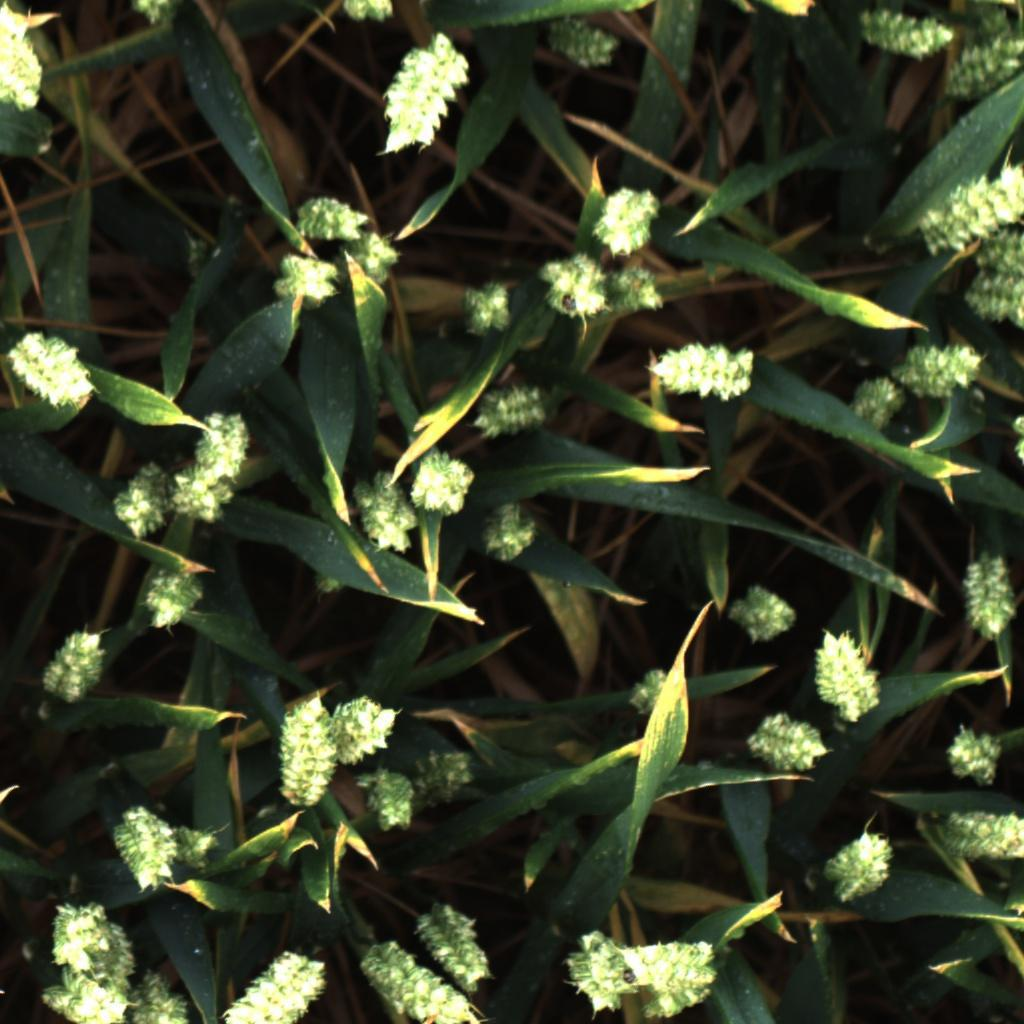0-0: (379, 28, 474, 159), (916, 164, 1024, 260), (360, 941, 482, 1024), (265, 694, 342, 813), (805, 624, 885, 730), (412, 898, 498, 996), (218, 954, 333, 1024), (5, 329, 98, 415), (648, 340, 762, 406), (57, 918, 140, 1002), (107, 802, 181, 895), (35, 621, 115, 706), (562, 926, 638, 1012), (617, 935, 722, 996), (939, 33, 1024, 108), (736, 710, 833, 775), (959, 548, 1023, 643), (350, 467, 416, 558), (326, 687, 401, 767), (405, 447, 484, 521), (0, 0, 47, 120), (108, 459, 174, 543), (886, 343, 983, 400), (830, 828, 899, 908), (46, 900, 118, 976), (134, 564, 211, 635), (465, 381, 546, 445), (932, 808, 1024, 864), (856, 10, 959, 59), (288, 188, 373, 247), (265, 243, 340, 306), (118, 963, 195, 1024), (590, 182, 654, 254), (547, 12, 621, 73), (944, 715, 1008, 785), (729, 584, 801, 646), (353, 764, 416, 834), (821, 828, 892, 890), (192, 408, 256, 476), (962, 264, 1024, 334), (835, 372, 912, 428), (168, 464, 235, 526), (340, 227, 408, 286), (479, 495, 537, 563), (39, 981, 130, 1024), (451, 282, 516, 342), (417, 744, 476, 807), (608, 259, 670, 315), (639, 982, 716, 1023), (623, 668, 673, 725), (543, 252, 609, 294), (971, 226, 1024, 277), (545, 283, 608, 324), (171, 826, 225, 870), (967, 0, 1015, 46), (127, 0, 189, 27), (335, 0, 401, 23), (1010, 407, 1024, 472)
